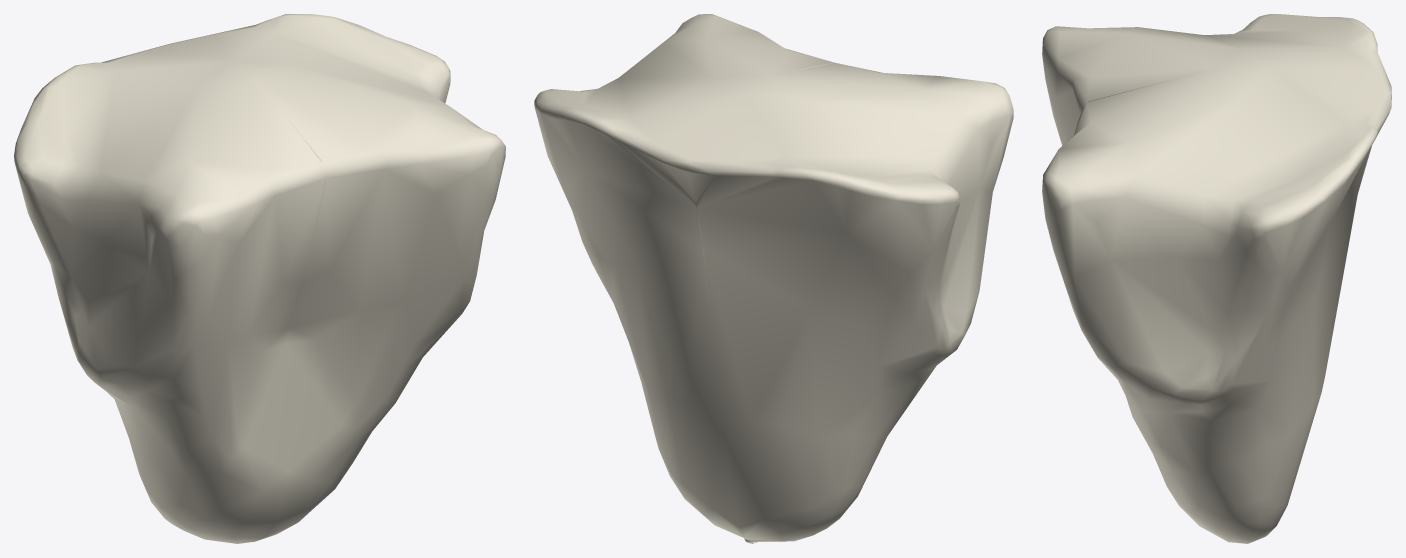
3 renders of one model, left to right at view 1: azimuth 30°, elevation 25°; view 2: azimuth 150°, elevation 25°; view 3: azimuth 270°, elevation 25°, orthographic. The views are drawn at different scales.
Parts seen in each view (by area): view 1: ZA_a2b7788ebd2225c6; view 2: ZA_a2b7788ebd2225c6; view 3: ZA_a2b7788ebd2225c6.
Boxes of the visible parts, left/top/right/bottom form: ZA_a2b7788ebd2225c6: left=14, top=14, right=505, bottom=543; ZA_a2b7788ebd2225c6: left=534, top=14, right=1013, bottom=543; ZA_a2b7788ebd2225c6: left=1042, top=14, right=1391, bottom=543.
Size of the model in its own units: 0.0217 by 0.0227 by 0.0154.
